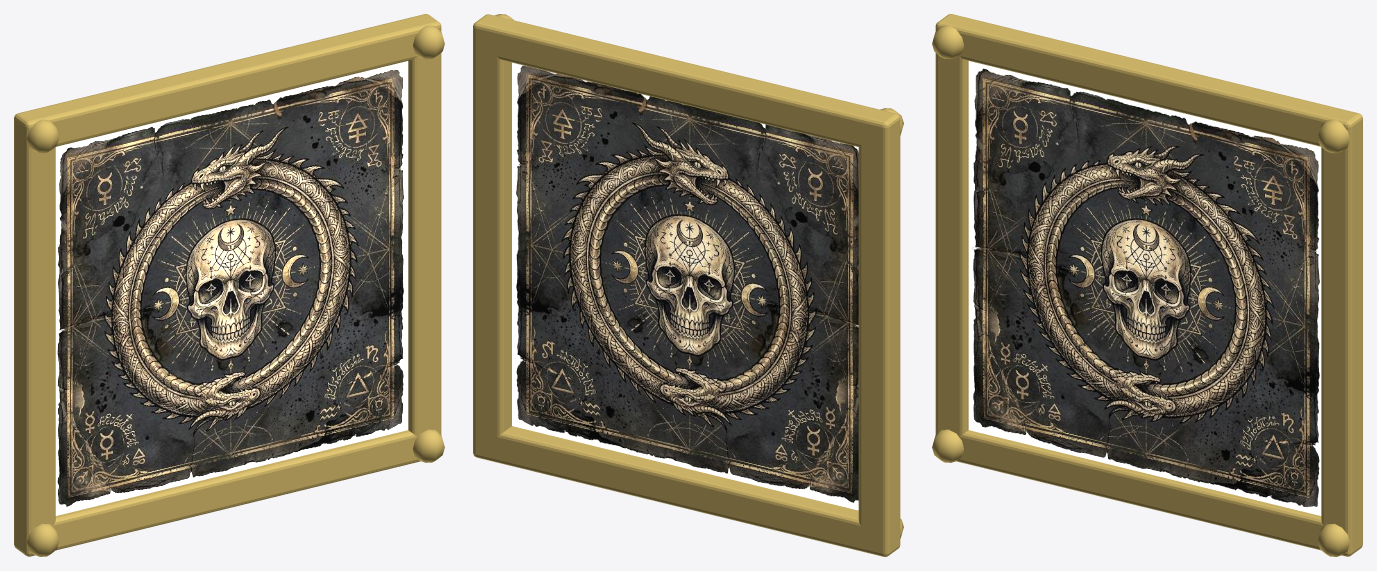
Rendered from art_ouroboros_sigil.glb.
The picture shows the model from 3 angles, left to right: view 1: azimuth 30°, elevation 25°; view 2: azimuth 150°, elevation 25°; view 3: azimuth 330°, elevation 25°; orthographic projection.
Visible parts, largest first — view 1: GD_art_ouroboros_sigil__m0, GD_art_ouroboros_sigil__m1; view 2: GD_art_ouroboros_sigil__m0, GD_art_ouroboros_sigil__m1; view 3: GD_art_ouroboros_sigil__m0, GD_art_ouroboros_sigil__m1.
Part boxes in pixels (x1,y1,x2,y2): GD_art_ouroboros_sigil__m0: (55, 61, 408, 515); GD_art_ouroboros_sigil__m1: (14, 14, 444, 556); GD_art_ouroboros_sigil__m0: (512, 62, 858, 510); GD_art_ouroboros_sigil__m1: (473, 14, 903, 556); GD_art_ouroboros_sigil__m0: (968, 61, 1321, 515); GD_art_ouroboros_sigil__m1: (932, 14, 1362, 556).
Size of the model in its own units: 0.96 by 0.96 by 0.095.
2 materials, 1 textured.
